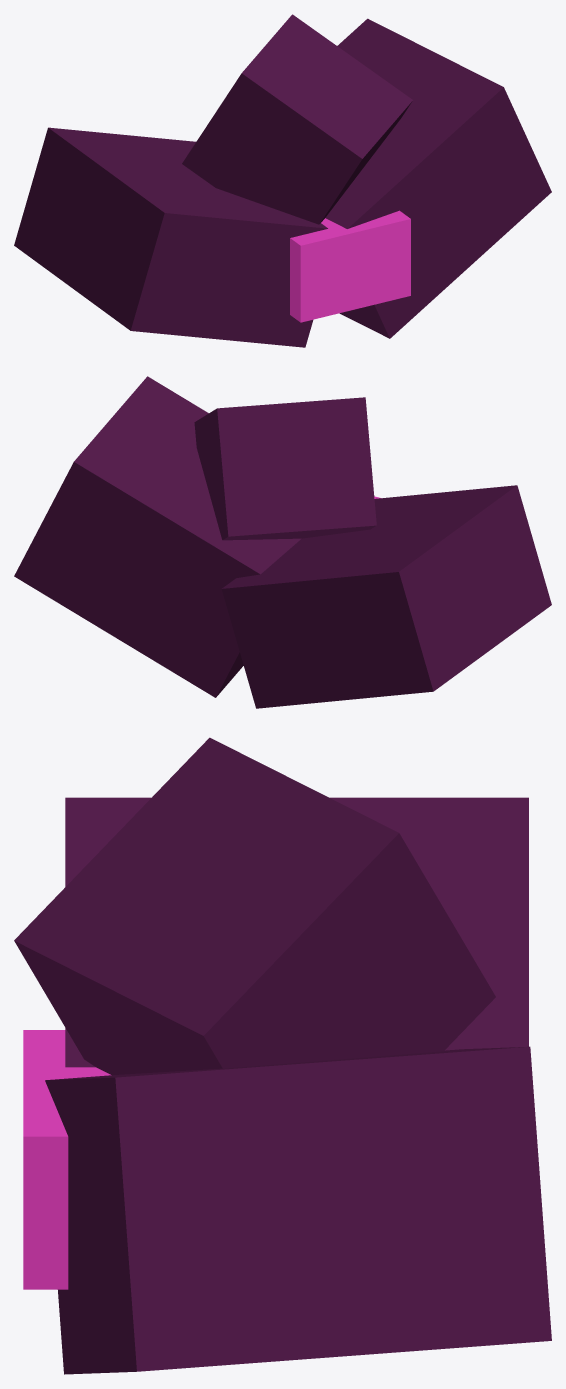
The model's file is rubble.glb.
3 views of the same model, one above another, from view 1: azimuth 30°, elevation 25°; view 2: azimuth 150°, elevation 25°; view 3: azimuth 270°, elevation 25° (orthographic). The views are drawn at different scales.
Visible parts, largest first — view 1: R0, R1, R2, Glow; view 2: R0, R1, R2; view 3: R1, R2, R0, Glow.
Part boxes in pixels (x1,y1,x2,y2): R0: [14, 127, 327, 347]; R1: [325, 18, 551, 338]; R2: [182, 14, 412, 224]; Glow: [290, 210, 410, 322]; R0: [221, 485, 551, 708]; R1: [14, 376, 301, 697]; R2: [194, 397, 376, 540]; R1: [45, 1046, 551, 1374]; R2: [14, 737, 495, 1075]; R0: [65, 797, 528, 1067]; Glow: [23, 1030, 111, 1289].
Size of the model in its own units: 0.4783 by 0.2769 by 0.2553.
